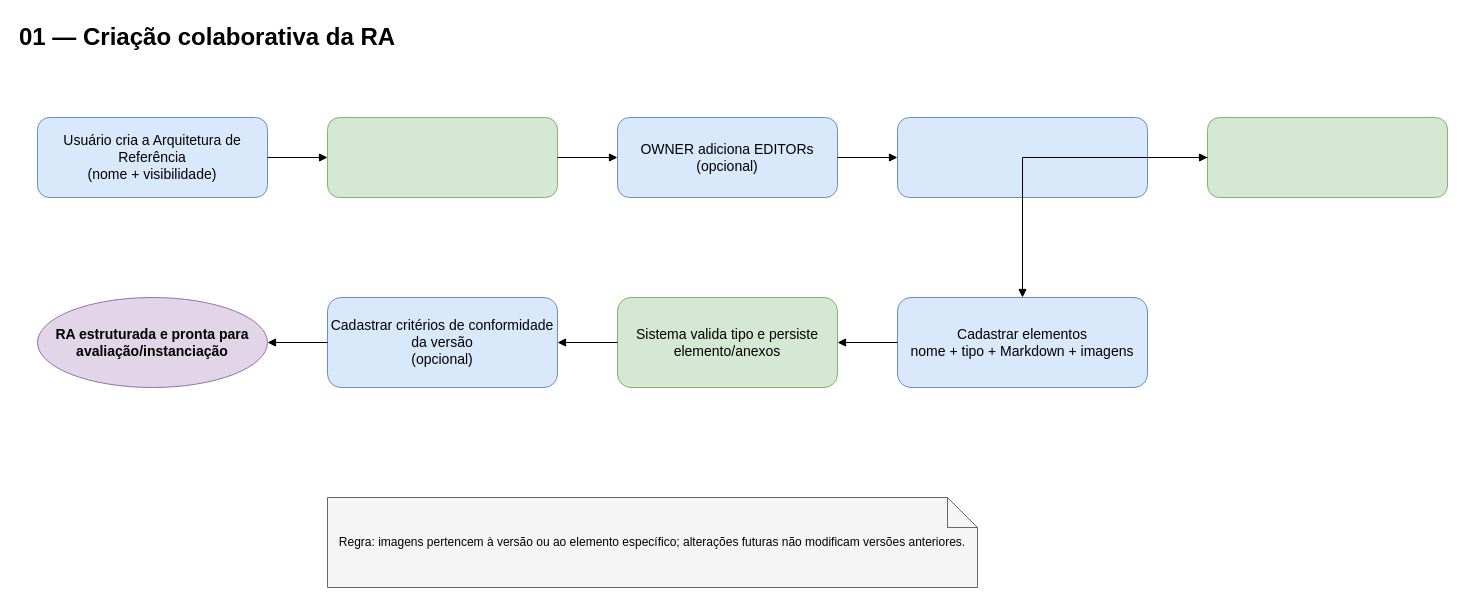
This 1465x605 diagram has some shape labels left out. The shapes that lost their labels are listed below. From the top down, each one's centre as x and y in pixels, then its label:
At (442,157): "Sistema cria a RA e registra o criador como OWNER".
At (1022,157): "Criar primeira versão identificador + Markdown + imagens".
At (1327,157): "Sistema cria RAVersion e armazena anexos".
